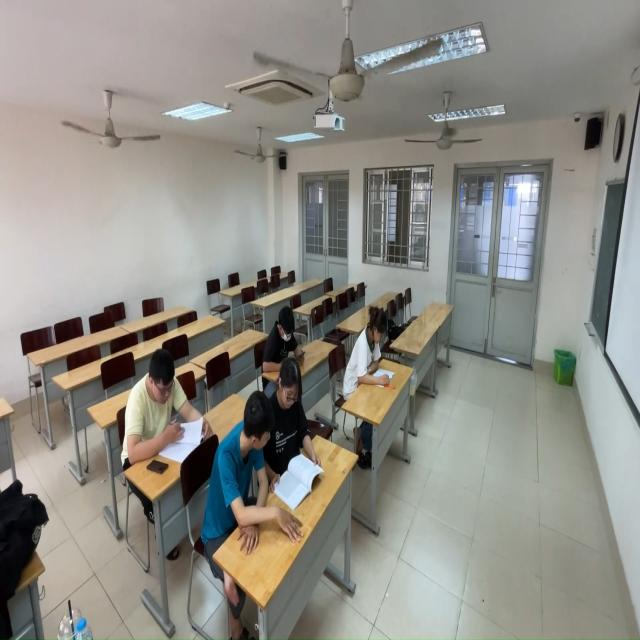read: (205, 391, 285, 555), (123, 352, 213, 465), (265, 355, 327, 490), (346, 302, 398, 411), (261, 305, 308, 368)
